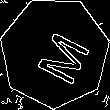M_NW: (23, 21, 87, 84)
